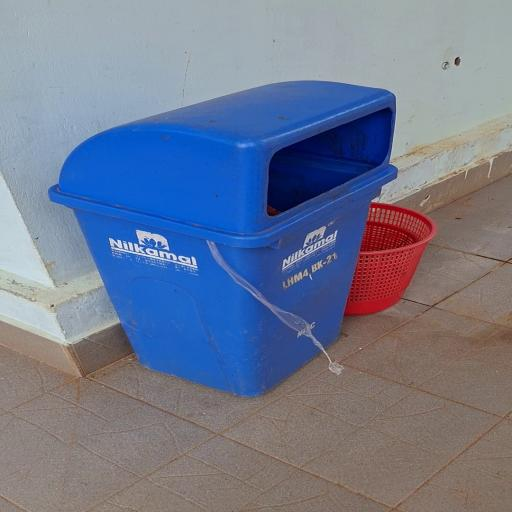Nilkamal-dustbin-detection: (50, 81, 396, 396)
